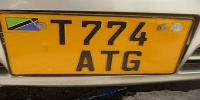T: (49, 17, 74, 47), (98, 48, 120, 73)
